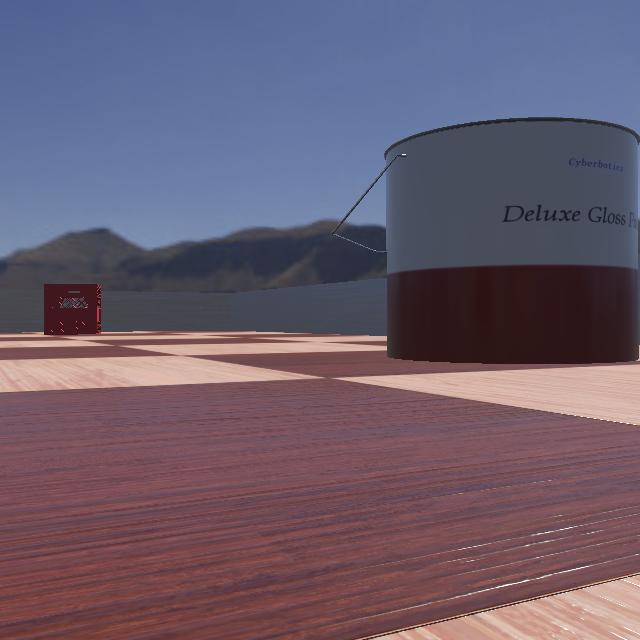paint-bucket: (329, 116, 639, 366), (329, 116, 639, 366)
plastic-crate: (32, 284, 110, 334)
